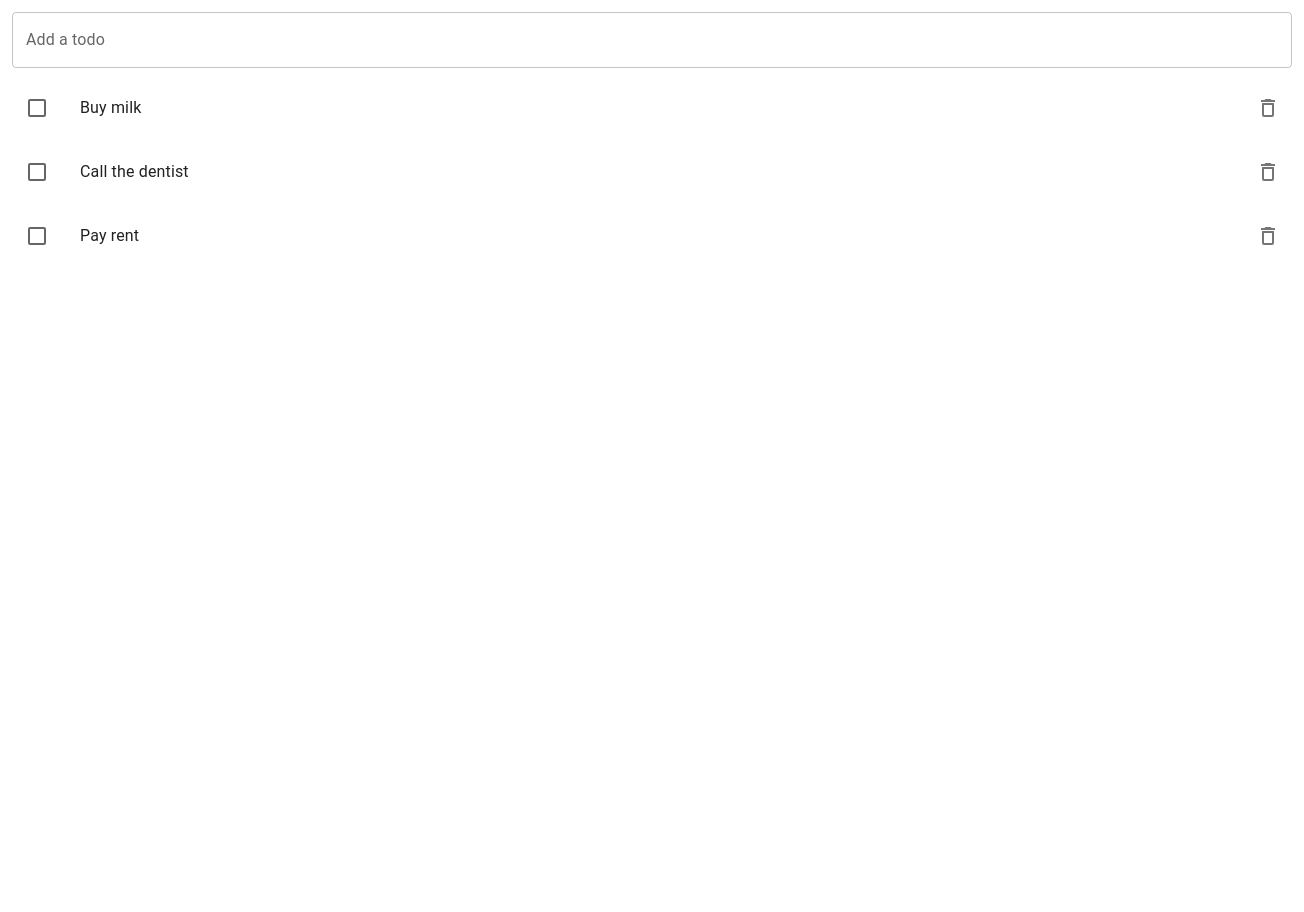
it: Undo puts the deleted todo back in its place right away, restores it, and closes the toast
The image size is (1304, 912).
Step 1. Click the button named "Delete Call the dentist" → (1268, 172), box [1248, 152, 1288, 192]
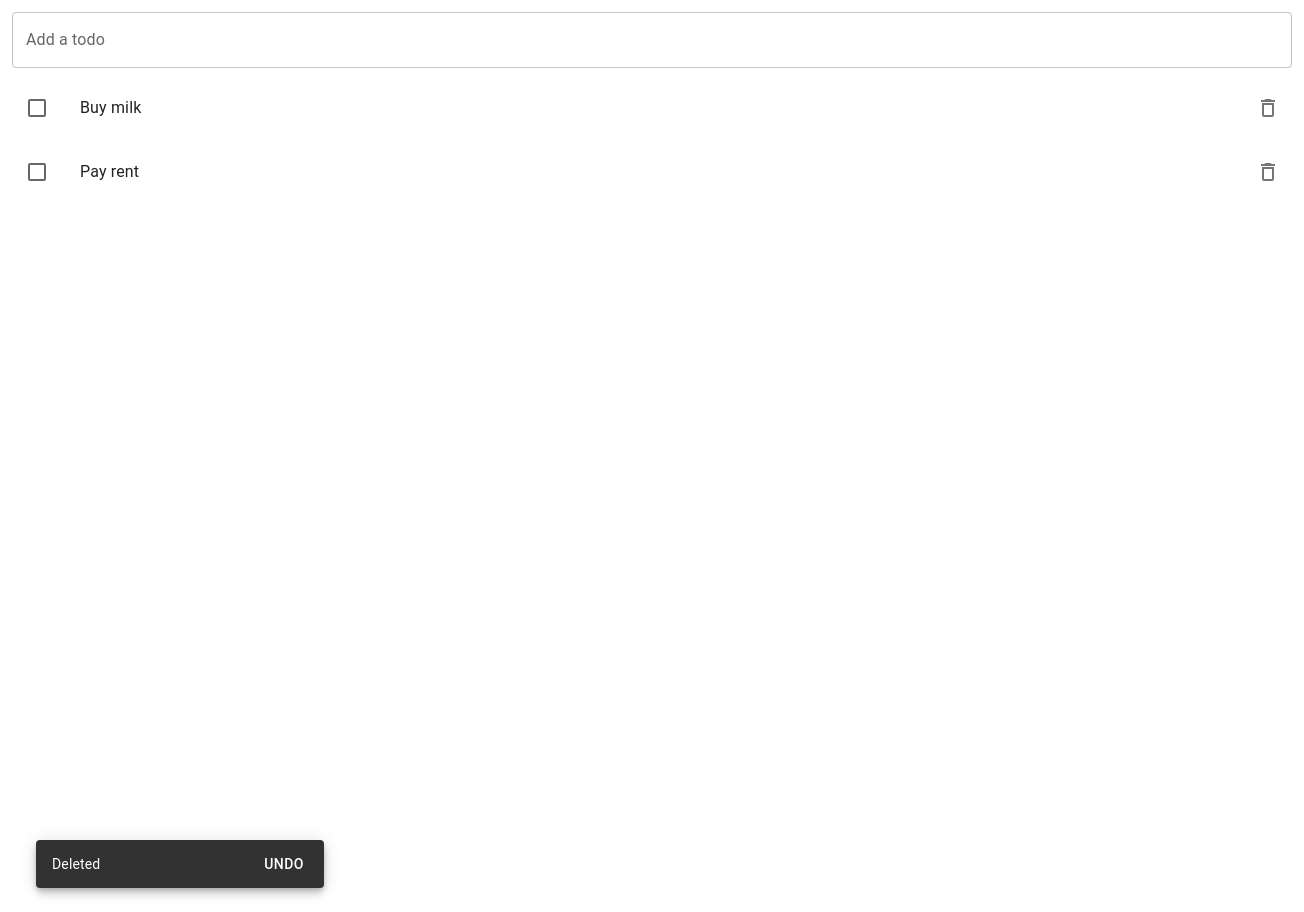
expect the list items read "Buy milk", "Pay rent", in this order: met, box [12, 76, 1292, 140]; [12, 140, 1292, 204]
Step 2. Click the button "Undo" → (284, 864), box [252, 846, 316, 882]
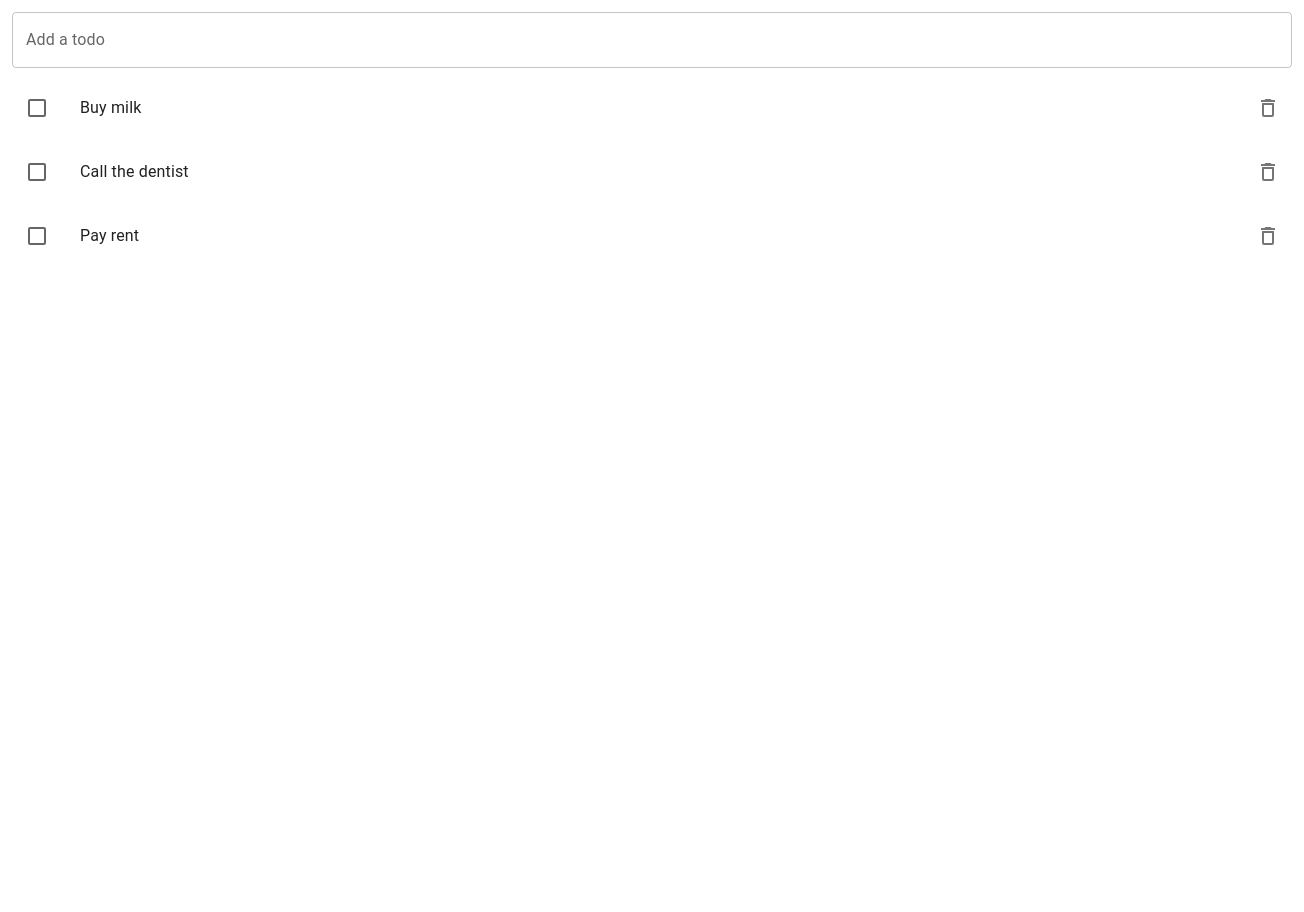
expect the list items read "Buy milk", "Call the dentist", "Pay rent", in this order: met, box [12, 76, 1292, 140]; [12, 140, 1292, 204]; [12, 204, 1292, 268]
expect the text "Deleted" is gone: met
